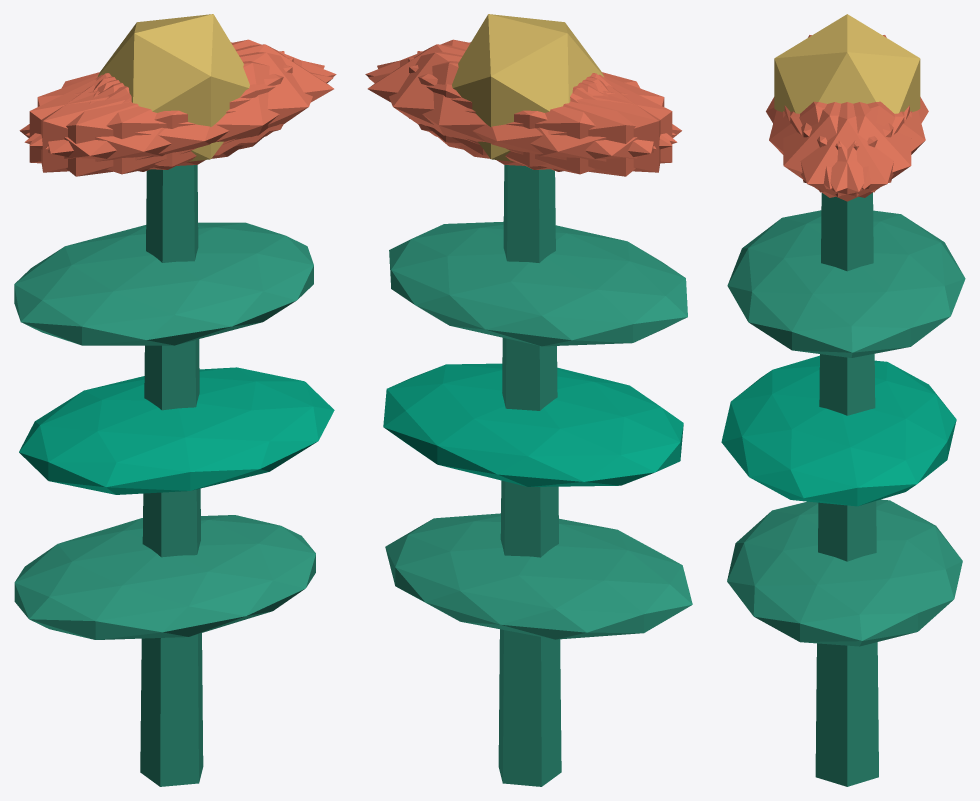
Rendered from laurus-nobilis.glb.
3 renders of one model, left to right at view 1: azimuth 30°, elevation 25°; view 2: azimuth 150°, elevation 25°; view 3: azimuth 270°, elevation 25°, orthographic.
Parts seen in each view (by area): view 1: leaf1, leaf2, leaf0, stem, center, petal1, petal6, petal2, petal5, petal7, petal0, petal4 (+2 smaller); view 2: leaf2, leaf0, leaf1, stem, center, petal8, petal3, petal7, petal4, petal2, petal0, petal5 (+2 smaller); view 3: leaf2, leaf1, leaf0, stem, center, petal0, petal4, petal5, petal1, petal8.
Boxes of the visible parts, <box> form: leaf1: <box>19,367,334,494</box>; leaf2: <box>14,222,313,345</box>; leaf0: <box>14,515,315,639</box>; stem: <box>140,165,203,786</box>; center: <box>97,14,249,161</box>; petal1: <box>24,61,333,174</box>; petal6: <box>19,74,243,176</box>; petal2: <box>41,51,284,172</box>; petal5: <box>45,52,324,166</box>; petal7: <box>29,57,293,169</box>; petal0: <box>97,44,333,155</box>; petal4: <box>26,39,336,146</box>; leaf2: <box>389,221,687,346</box>; leaf0: <box>385,513,692,639</box>; leaf1: <box>383,363,683,486</box>; stem: <box>498,165,561,786</box>; center: <box>452,14,603,161</box>; petal8: <box>368,61,677,174</box>; petal3: <box>458,74,681,176</box>; petal7: <box>417,51,660,172</box>; petal4: <box>377,52,656,166</box>; petal2: <box>408,57,672,169</box>; petal0: <box>367,44,604,155</box>; petal5: <box>365,39,675,146</box>; leaf2: <box>727,210,965,357</box>; leaf1: <box>721,355,956,506</box>; leaf0: <box>727,499,962,646</box>; stem: <box>815,192,878,786</box>; center: <box>774,14,920,113</box>; petal0: <box>784,102,909,201</box>; petal4: <box>790,102,911,197</box>; petal5: <box>783,102,904,197</box>; petal1: <box>769,101,893,189</box>; petal8: <box>801,101,925,189</box>.
Size of the model in its own units: 0.1497 by 0.3423 by 0.1024.
